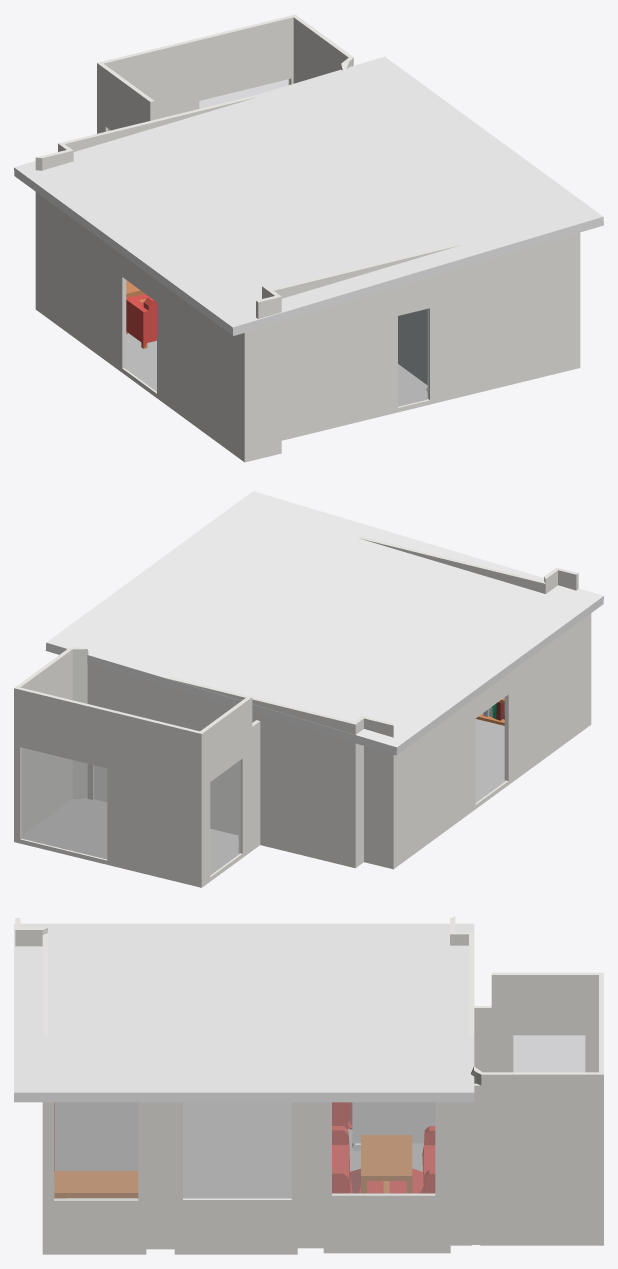
Rendered from 203_redesign.obj.
3 renders of one model, top to bottom at view 1: azimuth 30°, elevation 25°; view 2: azimuth 150°, elevation 25°; view 3: azimuth 270°, elevation 25°, orthographic. The views are drawn at different scales.
Visible parts, largest first — view 1: Object; view 2: Object; view 3: Object.
Boxes of the visible parts, <box> form: Object: <box>14,14,603,462</box>; Object: <box>14,491,603,887</box>; Object: <box>14,916,603,1254</box>.
Bounding box in the file's own units: 8.8 × 3.68 × 11.52.
